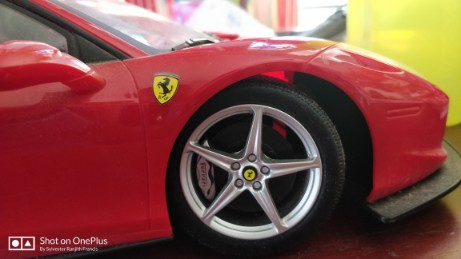unaligned_wheel: (160, 78, 346, 250)
